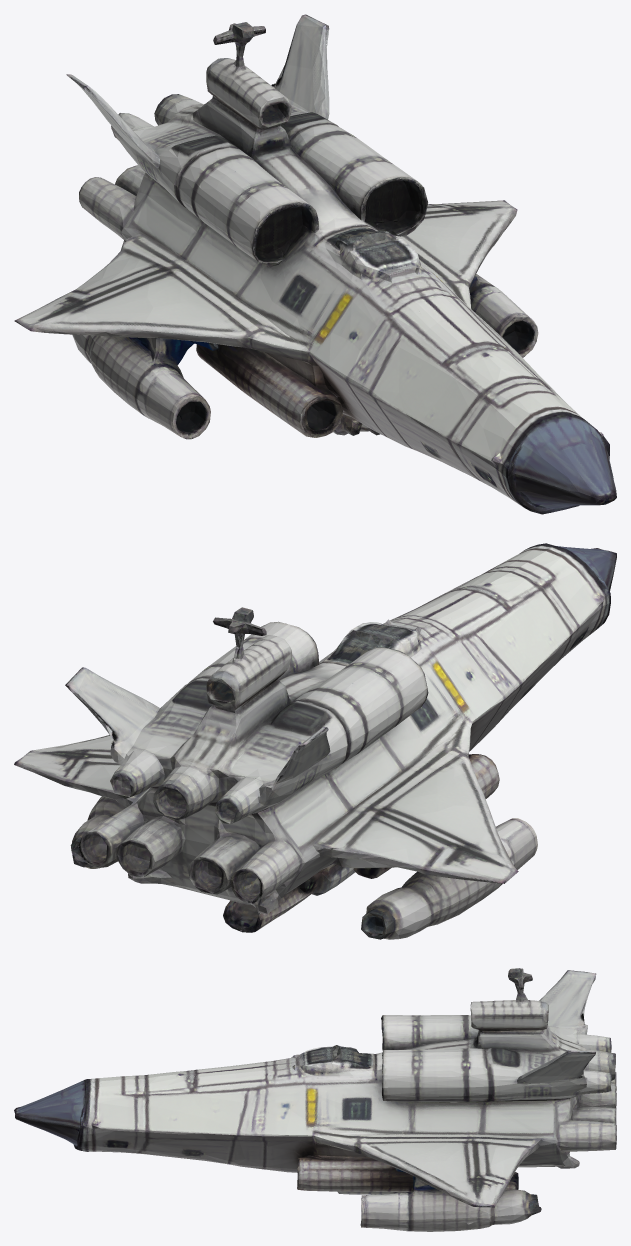
Rendered from Zephyr Scout.glb.
3 renders of one model, top to bottom at view 1: azimuth 30°, elevation 25°; view 2: azimuth 150°, elevation 25°; view 3: azimuth 270°, elevation 25°, orthographic. The views are drawn at different scales.
Visible parts, largest first — view 1: world; view 2: world; view 3: world.
Boxes of the visible parts, x1,y1,x2,y2 form: world: (14,14,616,514); world: (14,543,616,939); world: (14,968,616,1231).
Size of the model in its own units: 0.6449 by 0.4016 by 0.9967.
Materials: 1 (1 with a texture image).
